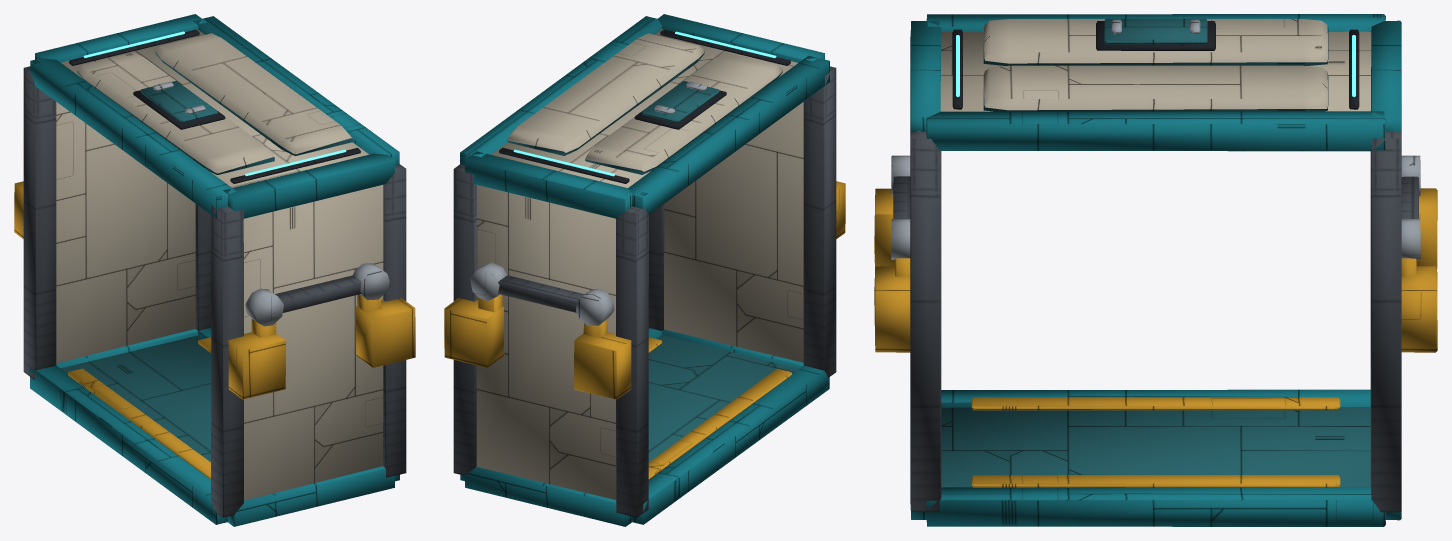
The model's file is docking_collar_lod2.glb.
3 views of the same model, side by side, from view 1: azimuth 30°, elevation 25°; view 2: azimuth 150°, elevation 25°; view 3: azimuth 270°, elevation 25° (orthographic). The views are drawn at different scales.
Parts seen in each view (by area): view 1: LOD2_Hull, LOD2_Livery, LOD2_Mechanical, LOD2_Armor, LOD2_Warning, LOD2_BrushedMetal, LOD2_MechanicalDark, LOD2_Lights_Cyan; view 2: LOD2_Hull, LOD2_Livery, LOD2_Mechanical, LOD2_Armor, LOD2_Warning, LOD2_BrushedMetal, LOD2_MechanicalDark, LOD2_Lights_Cyan; view 3: LOD2_Livery, LOD2_Armor, LOD2_Hull, LOD2_Mechanical, LOD2_Warning, LOD2_BrushedMetal, LOD2_MechanicalDark.
Boxes of the visible parts, x1=… form: LOD2_Hull: x1=56, y1=29, x2=383, y2=500; LOD2_Livery: x1=30, y1=14, x2=399, y2=526; LOD2_Mechanical: x1=23, y1=66, x2=406, y2=517; LOD2_Armor: x1=60, y1=51, x2=352, y2=461; LOD2_Warning: x1=14, y1=181, x2=415, y2=479; LOD2_BrushedMetal: x1=153, y1=81, x2=389, y2=326; LOD2_MechanicalDark: x1=69, y1=29, x2=360, y2=183; LOD2_Lights_Cyan: x1=83, y1=31, x2=346, y2=176; LOD2_Hull: x1=476, y1=29, x2=803, y2=499; LOD2_Livery: x1=460, y1=14, x2=829, y2=526; LOD2_Mechanical: x1=453, y1=66, x2=836, y2=517; LOD2_Armor: x1=507, y1=52, x2=798, y2=462; LOD2_Warning: x1=444, y1=181, x2=845, y2=479; LOD2_BrushedMetal: x1=470, y1=81, x2=706, y2=325; LOD2_MechanicalDark: x1=499, y1=29, x2=790, y2=183; LOD2_Lights_Cyan: x1=513, y1=31, x2=776, y2=176; LOD2_Livery: x1=910, y1=14, x2=1401, y2=526; LOD2_Armor: x1=941, y1=18, x2=1370, y2=487; LOD2_Hull: x1=917, y1=19, x2=1371, y2=131; LOD2_Mechanical: x1=893, y1=37, x2=1418, y2=512; LOD2_Warning: x1=874, y1=188, x2=1437, y2=487; LOD2_BrushedMetal: x1=891, y1=19, x2=1420, y2=259; LOD2_MechanicalDark: x1=952, y1=21, x2=1359, y2=109.
Size of the model in its own units: 2.26 by 4.08 by 4.89.
Materials: 8 (7 with a texture image).
